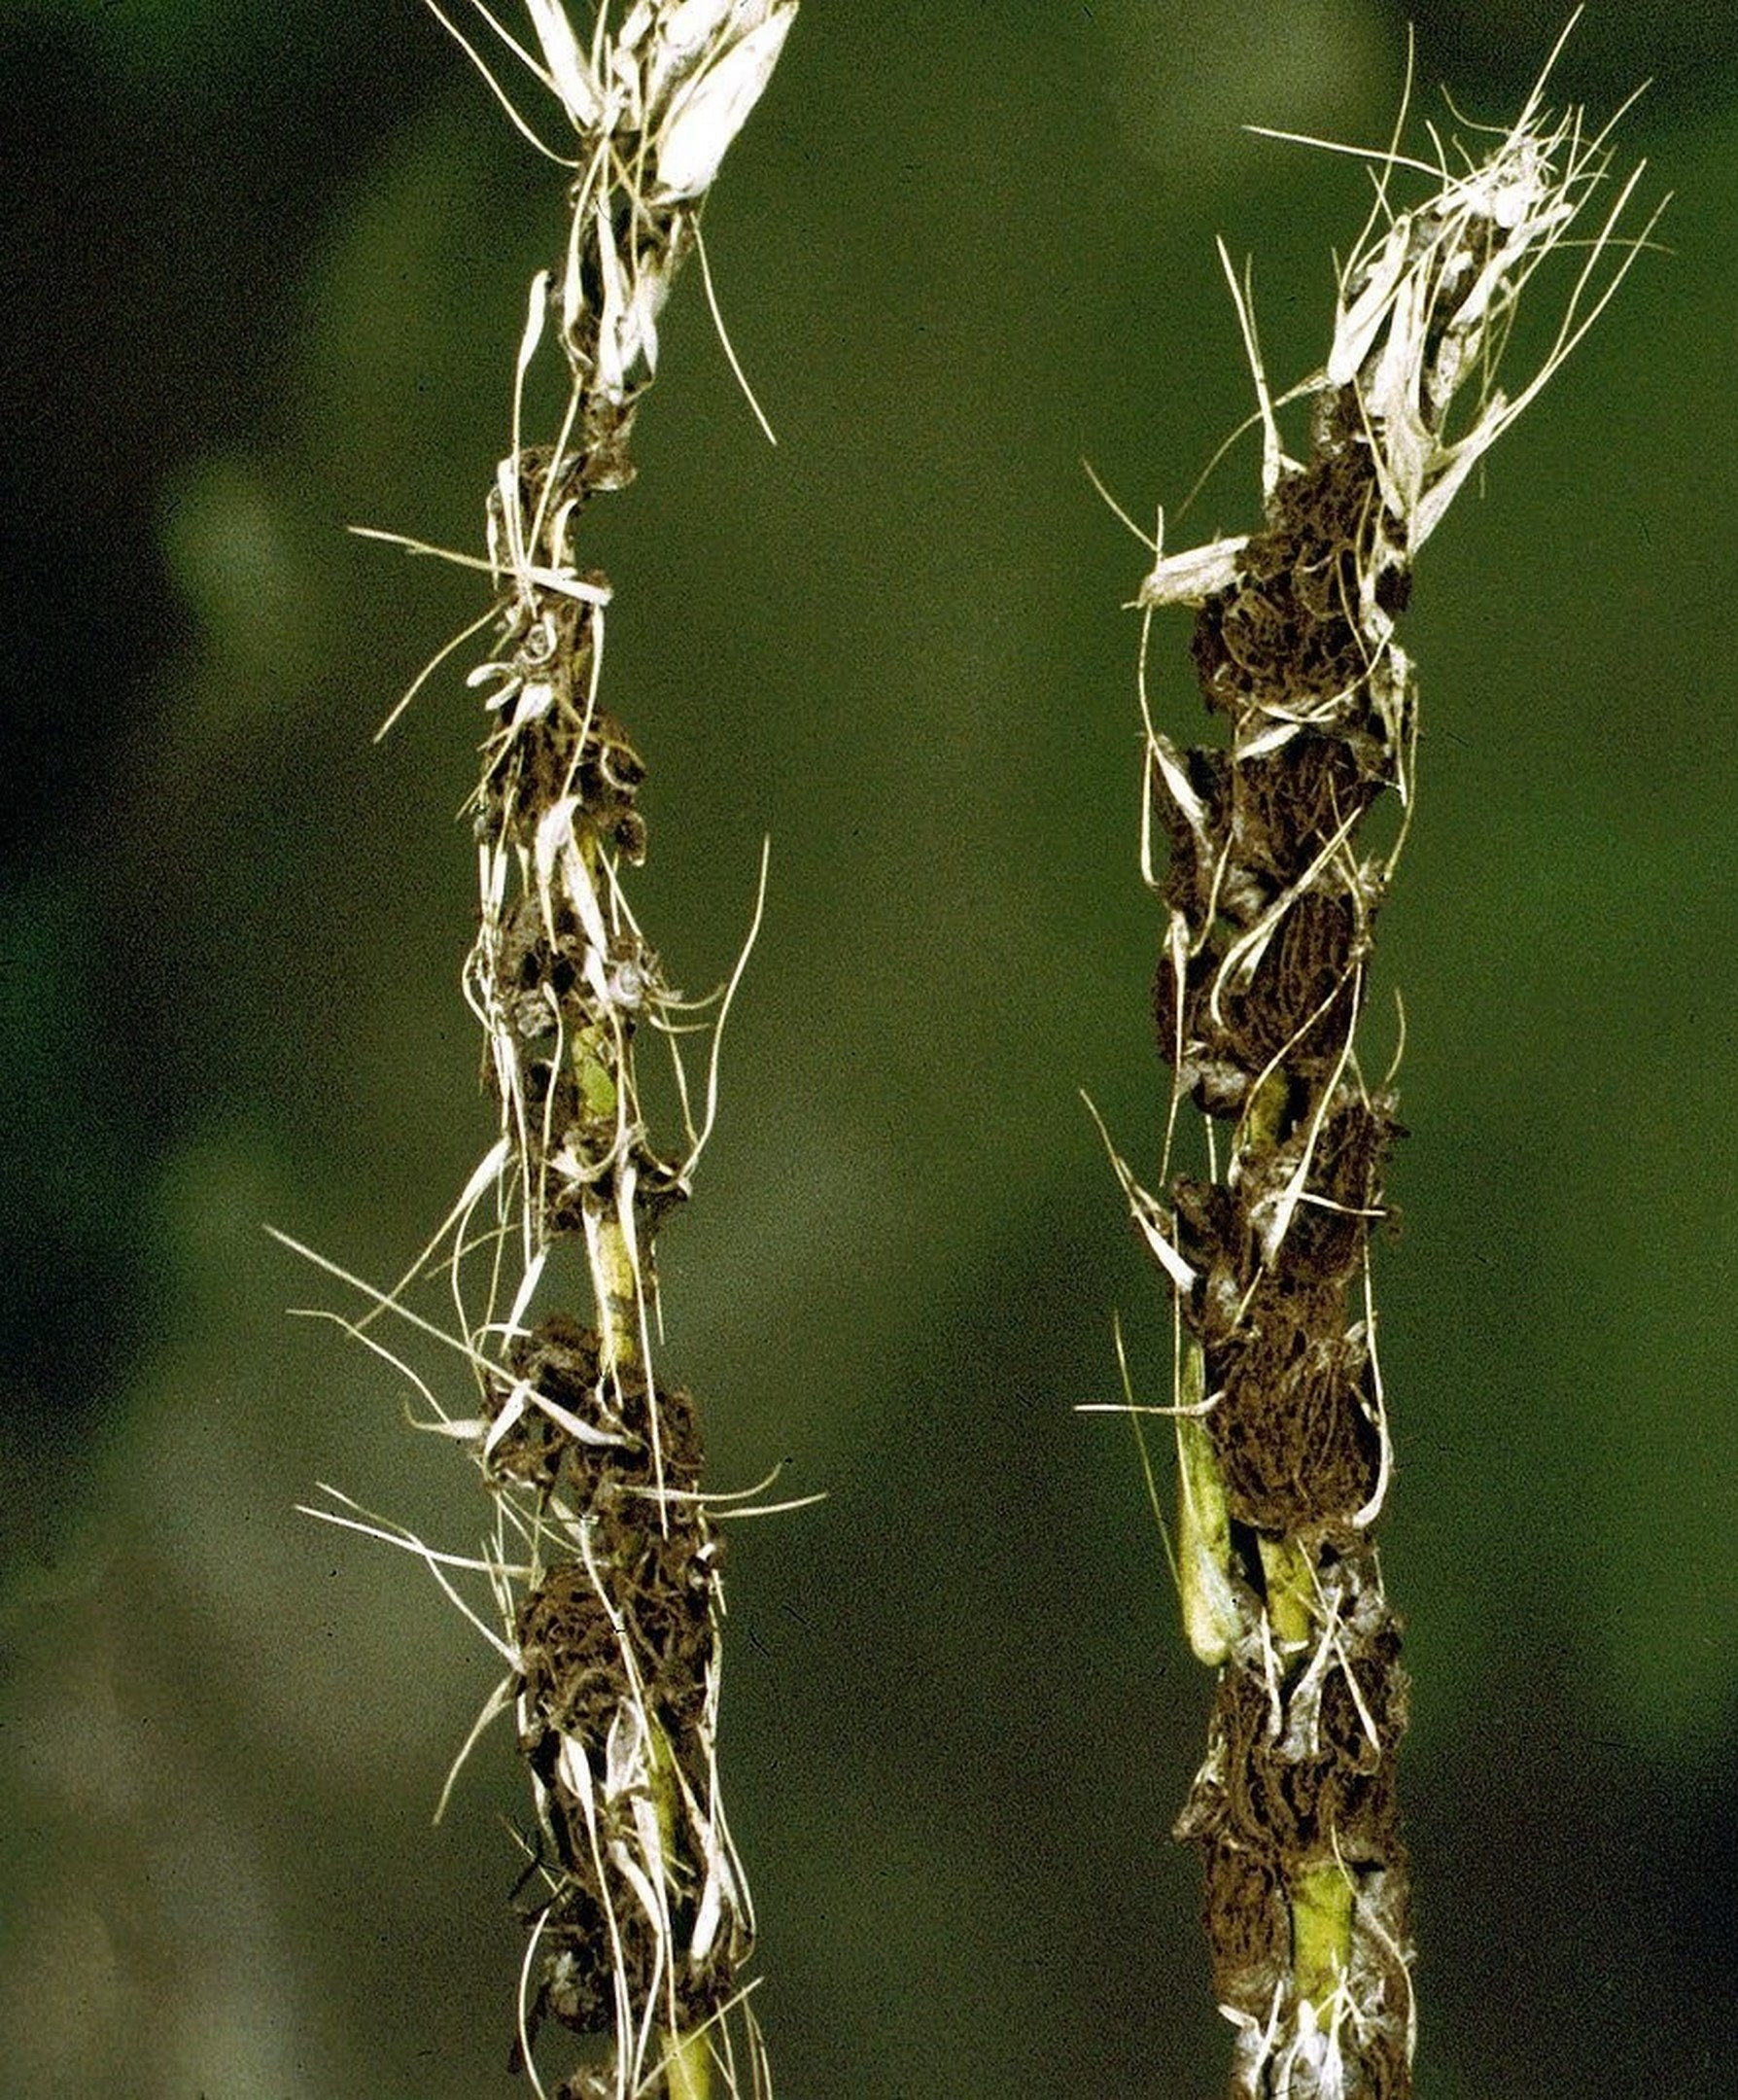Wheat Loose Smut: (389, 183, 1473, 2070)
